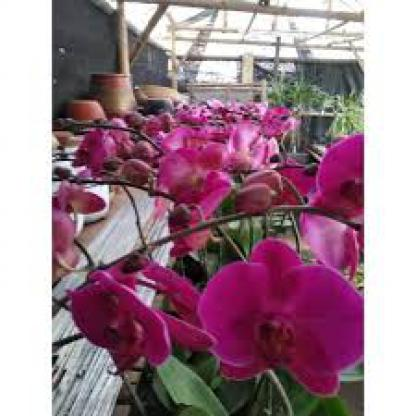ANGGREK: (71, 94, 358, 390)
